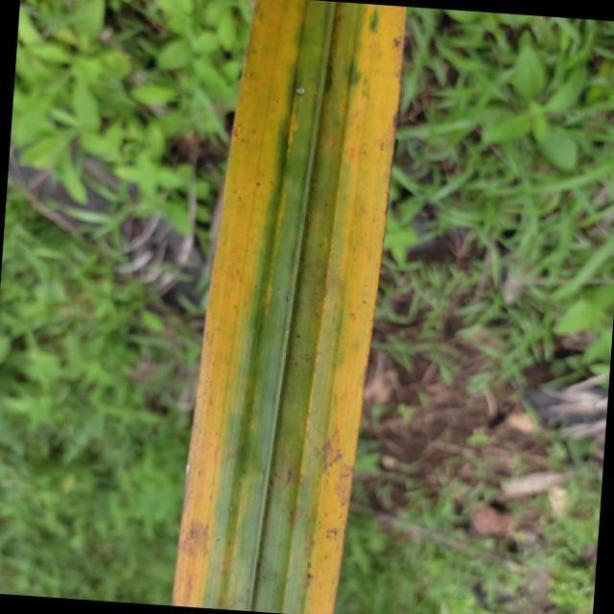Megnesium: (173, 0, 403, 614)
